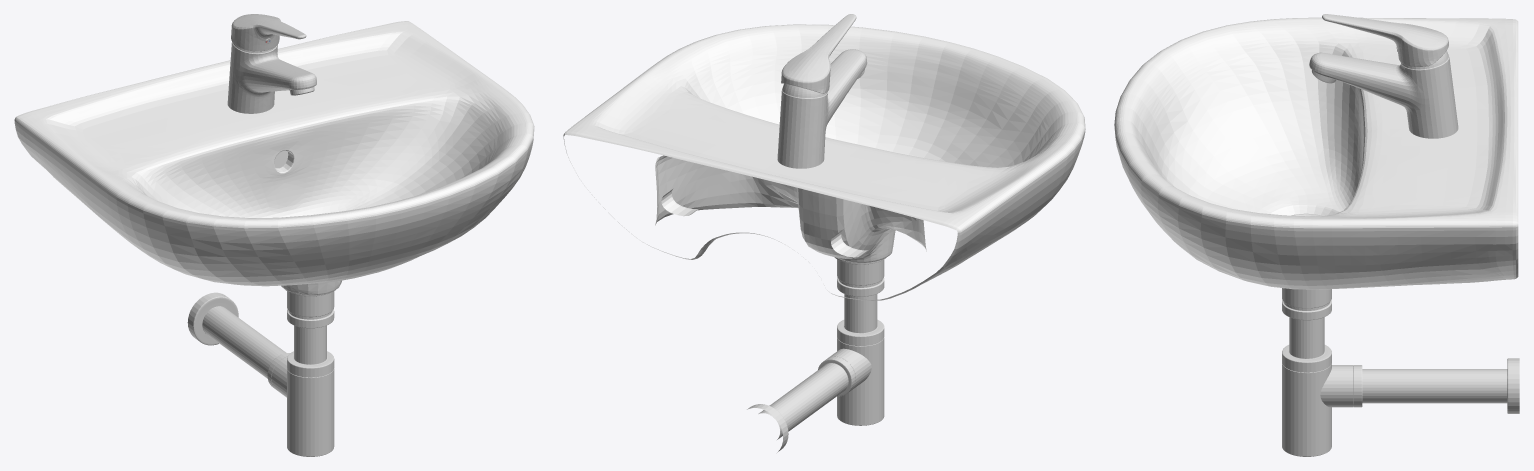
The model's file is AEC_29420.glb.
3 renders of one model, left to right at view 1: azimuth 30°, elevation 25°; view 2: azimuth 150°, elevation 25°; view 3: azimuth 270°, elevation 25°, orthographic. The views are drawn at different scales.
Visible parts, largest first — view 1: 0; view 2: 0; view 3: 0.
Boxes of the visible parts, x1,y1,x2,y2 form: 0: [14, 14, 534, 456]; 0: [563, 14, 1085, 452]; 0: [1114, 14, 1519, 456].
Bounding box in the file's own units: 0.4491 × 0.4342 × 0.3697.
Materials: 1 (1 with a texture image).
